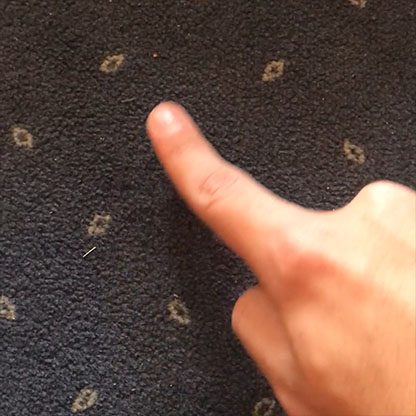fingertip: (132, 97, 203, 145)
